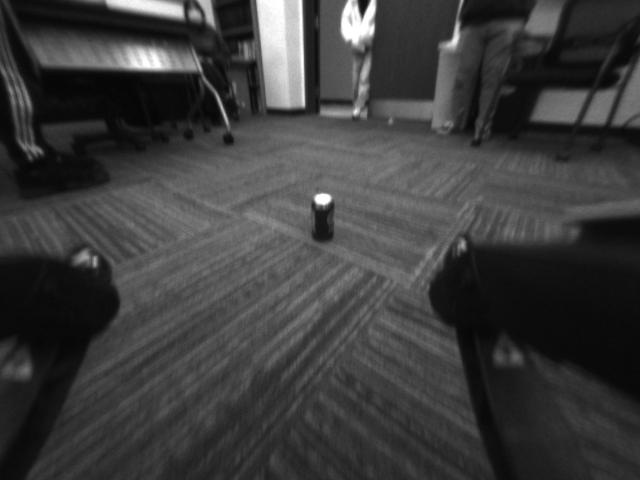can: (305, 187, 342, 243)
